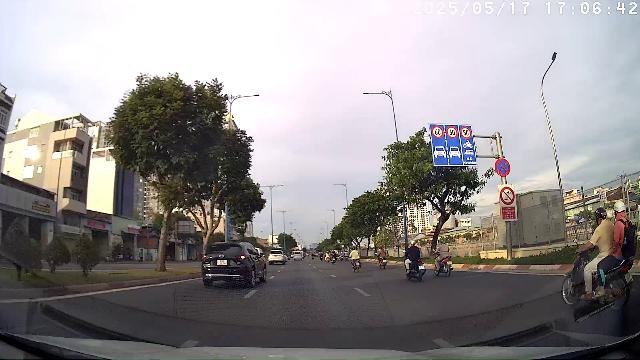127-toc-do-toi-da-50: (460, 126, 472, 139)
127-toc-do-toi-da-60: (431, 125, 444, 138), (446, 125, 458, 139)
130-cam-dung-va-do-xe: (495, 158, 511, 177)
